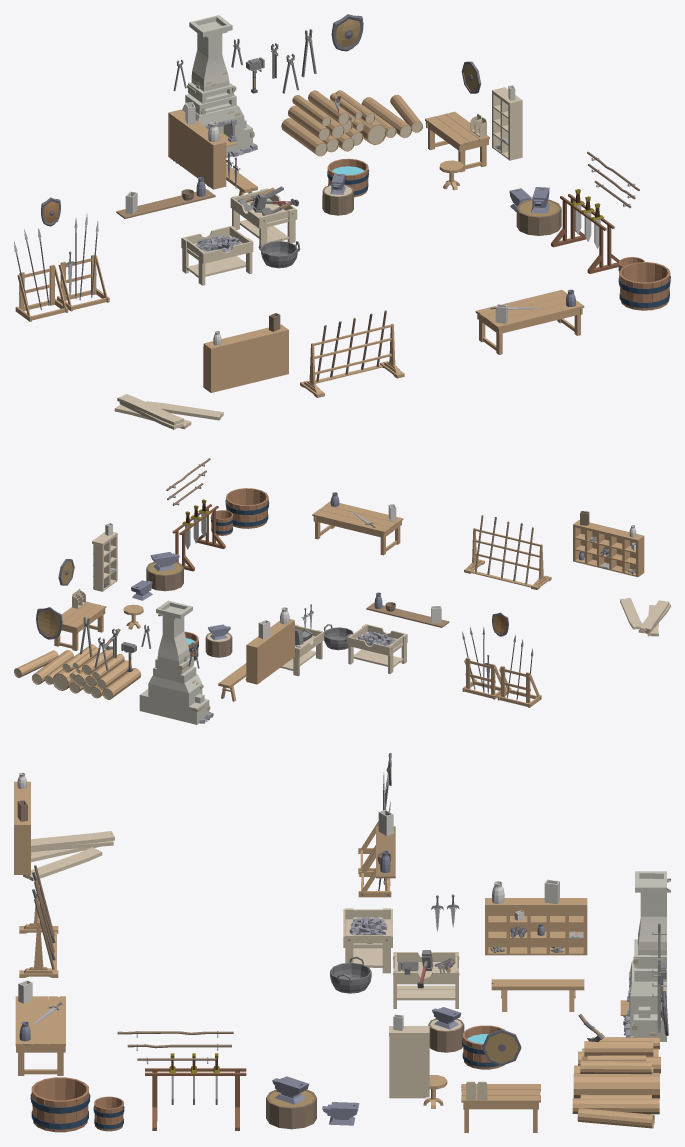
The model's file is Room_Blacksmith_Assets.fbx.
3 views of the same model, one above another, from view 1: azimuth 30°, elevation 25°; view 2: azimuth 150°, elevation 25°; view 3: azimuth 270°, elevation 25° (orthographic). The views are drawn at different scales.
Visible parts, largest first — view 1: tool_shelf1 (×2), bucket1, tool_shelf2, Staff_Rack_Geo, polySurface153, pCube120 (×2), anvil_log1, bucket_with_water, polySurface157, shield, bowl, Shelf_BG_02_Geo (+10 smaller); view 2: tool_shelf1 (×2), polySurface157, bucket1, tool_shelf2, Staff_Rack_Geo, polySurface153, anvil_log1, shield, pCube90, Shelf_BG_02_Geo, anvil_log, pCylinder2 (+12 smaller); view 3: tool_shelf1 (×2), tool_shelf2, bucket1, pCylinder1_5, polySurface153, anvil_log1, pCylinder1_7, bucket_with_water, pCube107, pCylinder1_8, Staff_Rack_Geo, polySurface157 (+20 smaller).
Part boxes in pixels (x1,y1,x2,y2): tool_shelf1 (×2): (168,109,288,392); bucket1: (618,262,670,310); tool_shelf2: (492,87,522,160); Staff_Rack_Geo: (300,323,404,397); polySurface153: (191,21,229,91); pCube120 (×2): (182,208,295,285); anvil_log1: (516,199,561,235); bucket_with_water: (327,158,369,197); polySurface157: (182,104,244,153); shield: (331,14,363,51); bowl: (261,241,297,268); Shelf_BG_02_Geo: (116,189,215,218); tool_shelf1 (×2): (246,520,644,684); polySurface157: (148,674,202,722); bucket1: (225,488,269,528); tool_shelf2: (92,532,117,591); Staff_Rack_Geo: (464,528,551,589); polySurface153: (157,606,189,665); anvil_log1: (146,562,183,591); shield: (36,607,62,639); pCube90: (312,509,390,533); Shelf_BG_02_Geo: (366,603,449,627); anvil_log: (205,632,232,657); pCylinder2: (102,668,141,699); tool_shelf1 (×2): (14,781,587,955); tool_shelf2: (389,1026,429,1098); bucket1: (30,1077,90,1132); pCylinder1_5: (573,1074,659,1098); polySurface153: (638,878,670,955); anvil_log1: (266,1089,316,1129); pCylinder1_7: (572,1098,659,1114); bucket_with_water: (461,1025,505,1069); pCube107: (491,979,584,990); pCylinder1_8: (577,1108,654,1128); Staff_Rack_Geo: (19,880,58,977); polySurface157: (630,960,666,1036).
Size of the model in its own units: 1110 by 256 by 1041.
